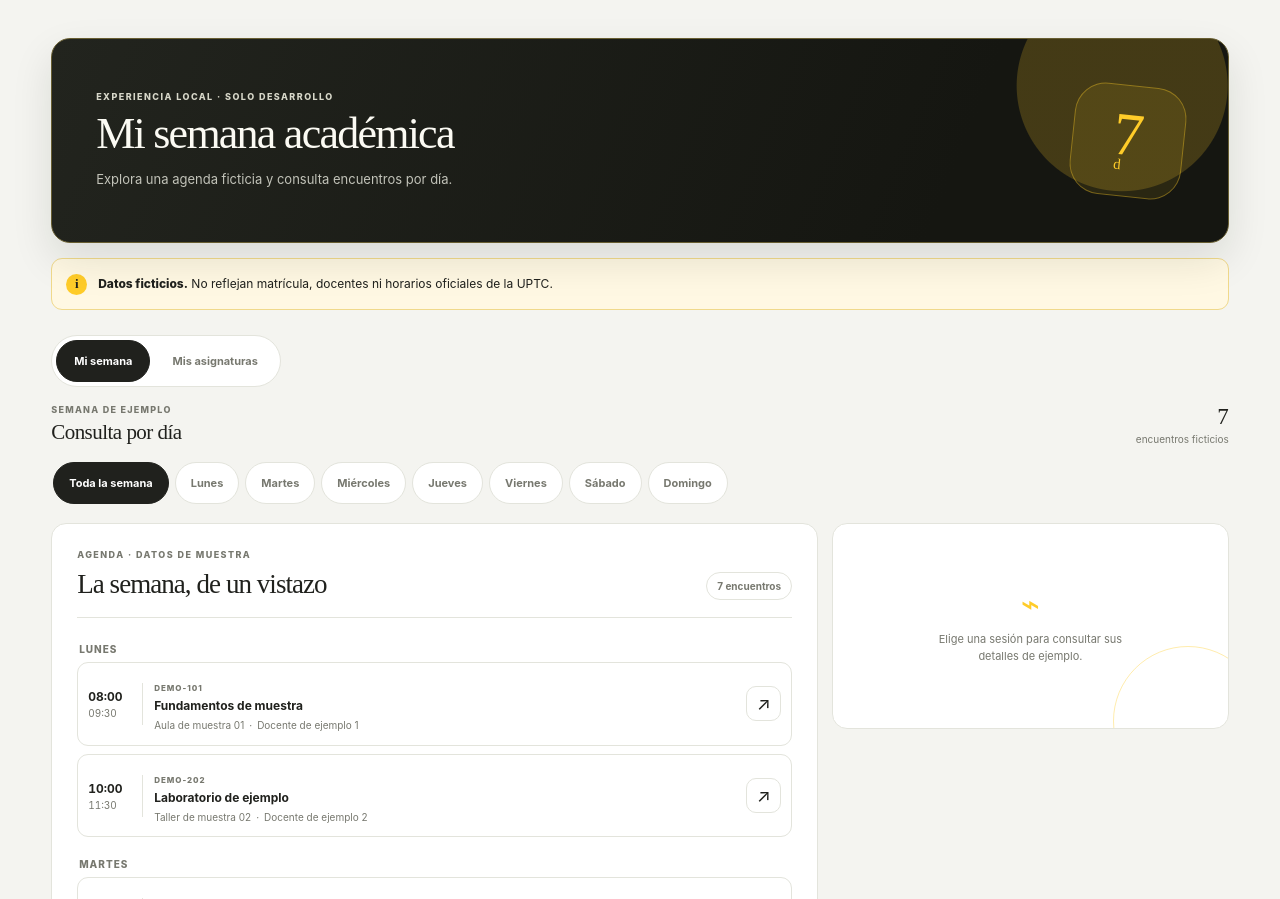
Test: MyAcademicWeekDemo › explains when a selected day has no sample sessions
Step 1. Click the button "Domingo" → (688, 483), box [648,462,728,504]
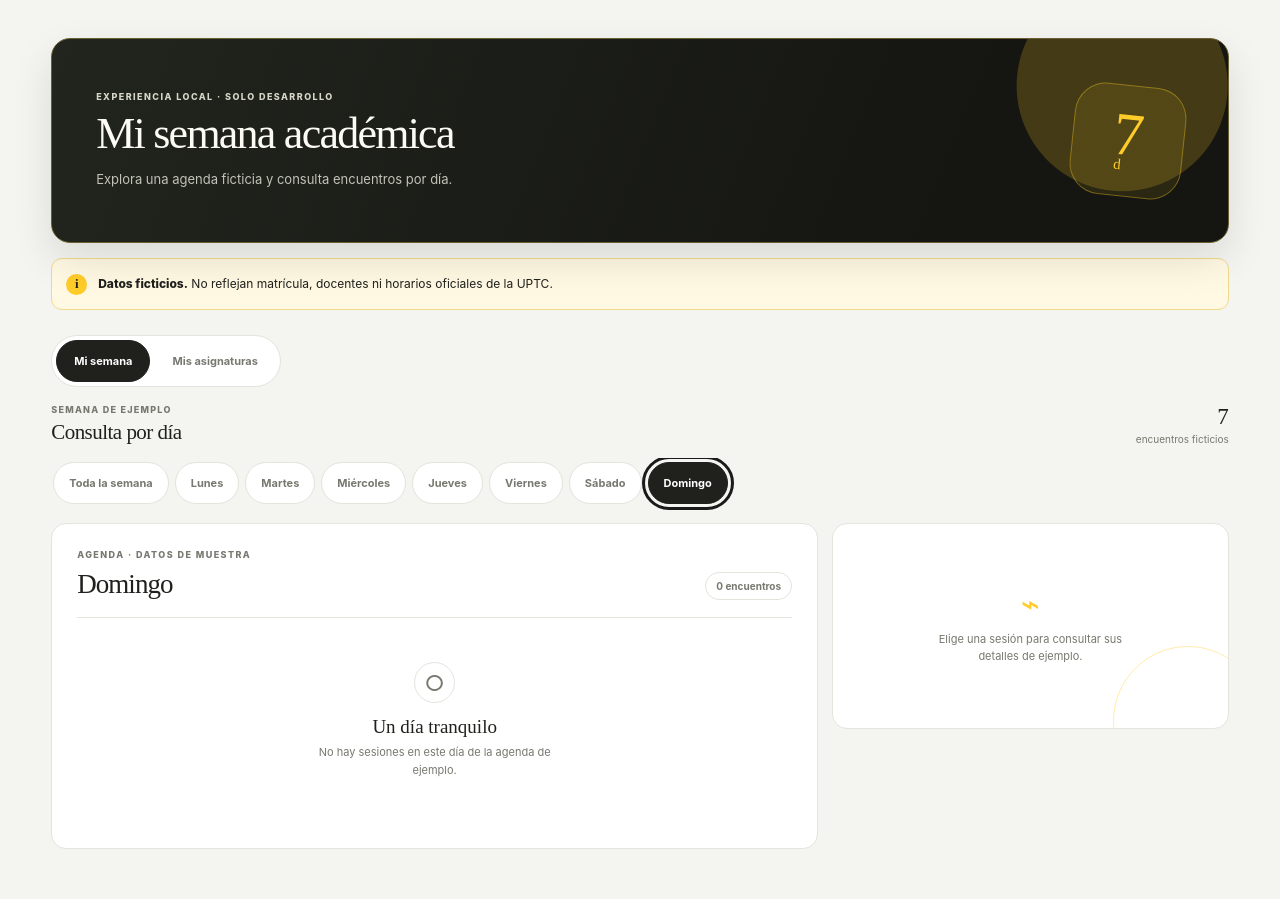
Check: the text "No hay sesiones en este día de la agenda de ejemplo." is shown, box [300,744,570,779]
